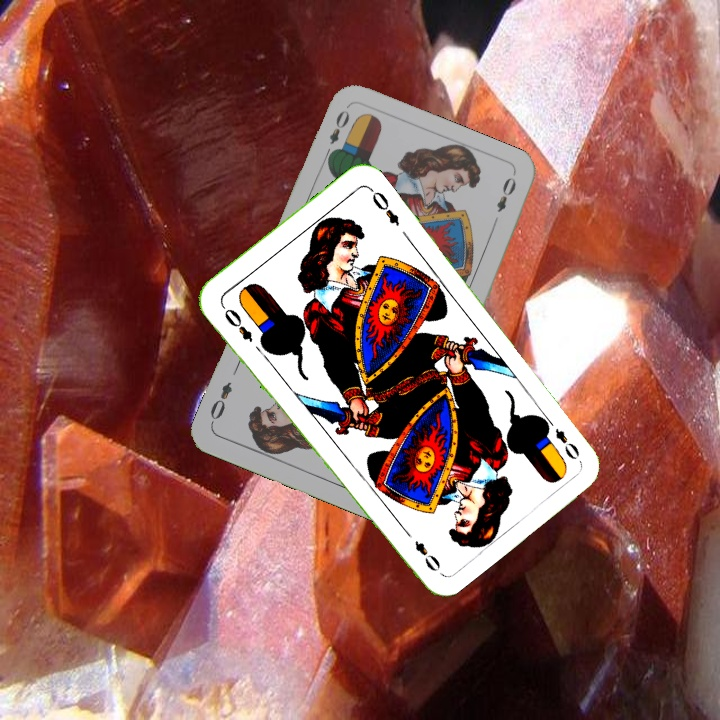EO: (540, 413, 583, 463), (320, 106, 352, 162), (217, 300, 256, 345)
